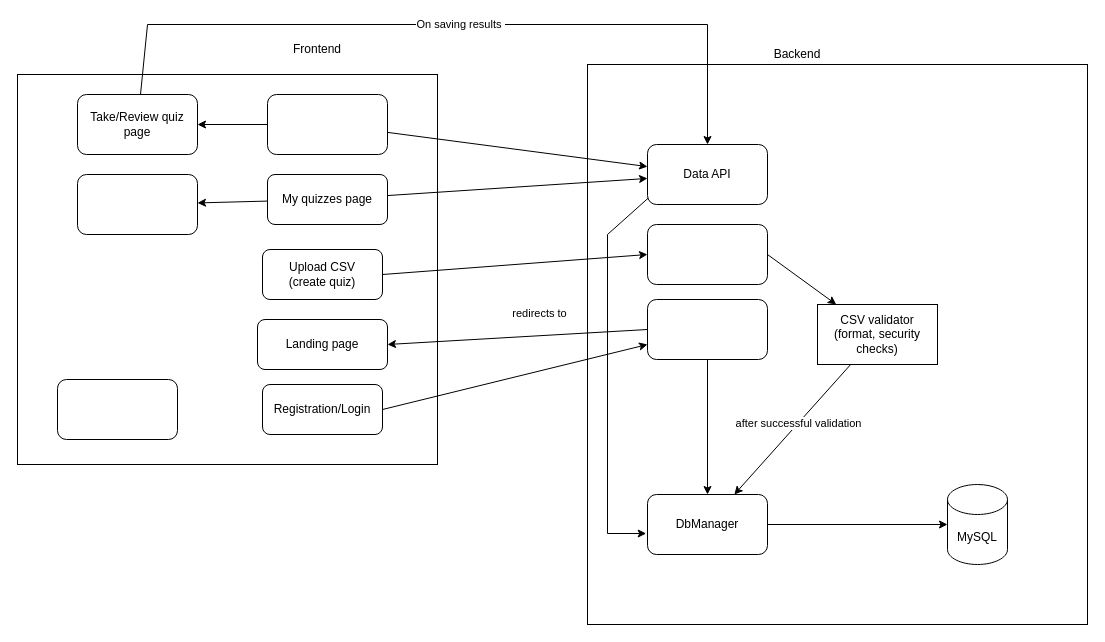
The diagram is 1105 pixels wide and 642 high, and some of its shapes have lost their labels. The shapes that lost their labels are listed below. From the top down, each one's box as (x1, y1, x2, y2) in pixels, then its label:
(266, 94, 388, 154): All quizzes page
(76, 174, 198, 234): Quiz Reviews summary
(646, 224, 768, 284): CSV parser
(646, 298, 768, 360): Authentication
(56, 378, 178, 440): XML exporter
